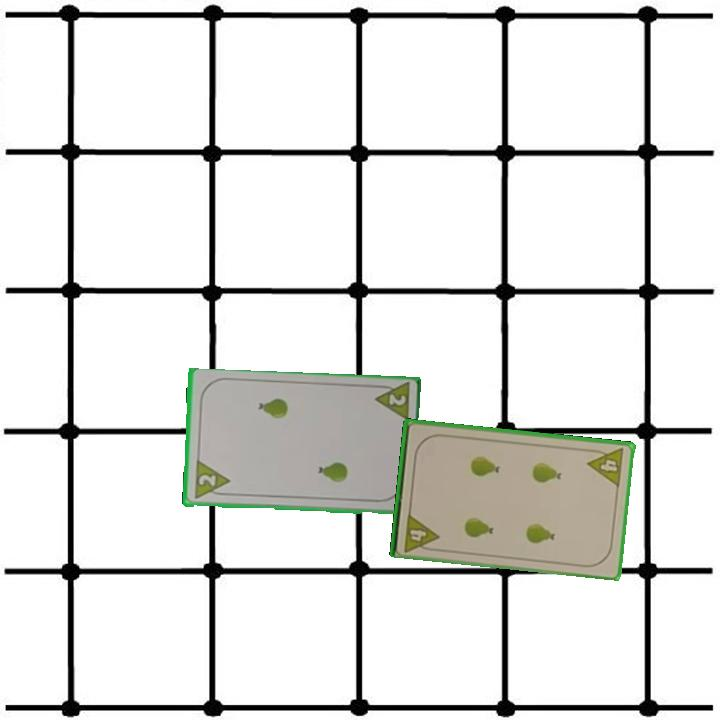2p: (371, 381, 412, 425), (195, 471, 219, 489)
4p: (584, 445, 627, 489), (400, 509, 441, 554)
